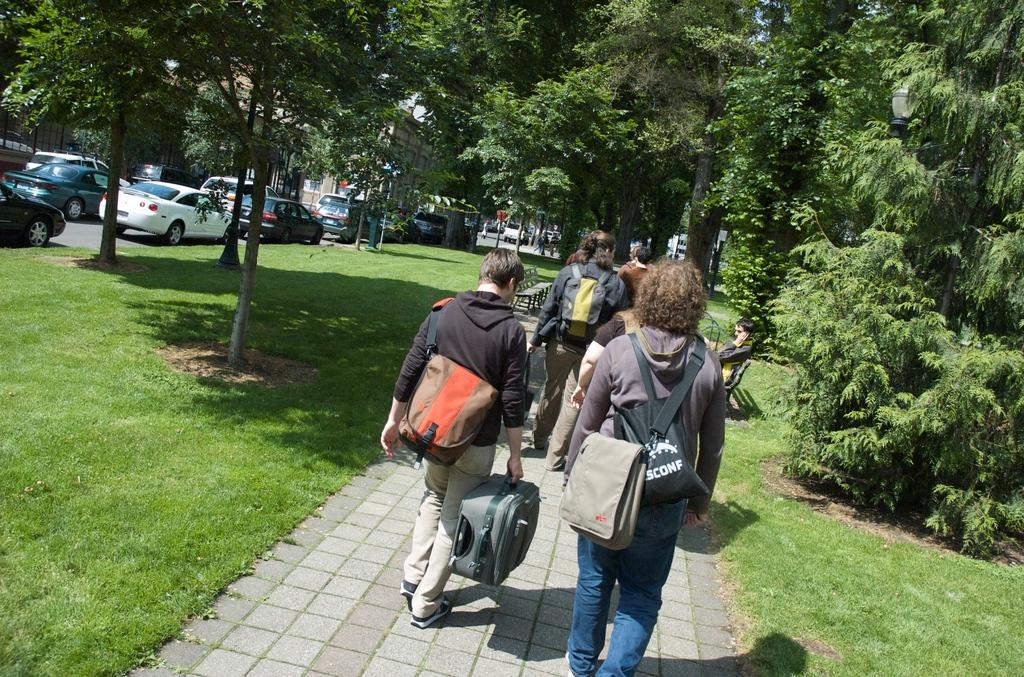Luggage-and-bags: (554, 334, 710, 542), (607, 332, 717, 517), (396, 298, 507, 464), (448, 469, 544, 589), (557, 261, 613, 355), (518, 349, 536, 425), (618, 307, 643, 337)
